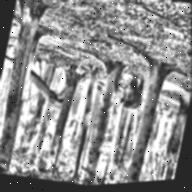boar: (114, 73, 149, 121)
